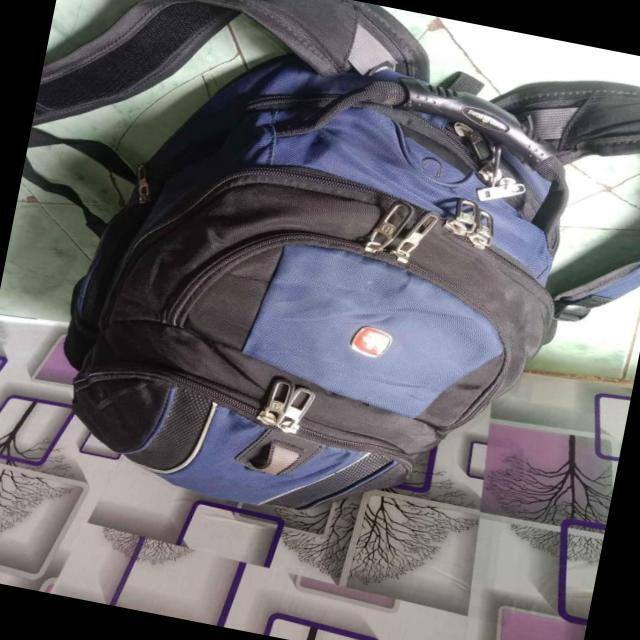bag: (70, 57, 555, 518)
